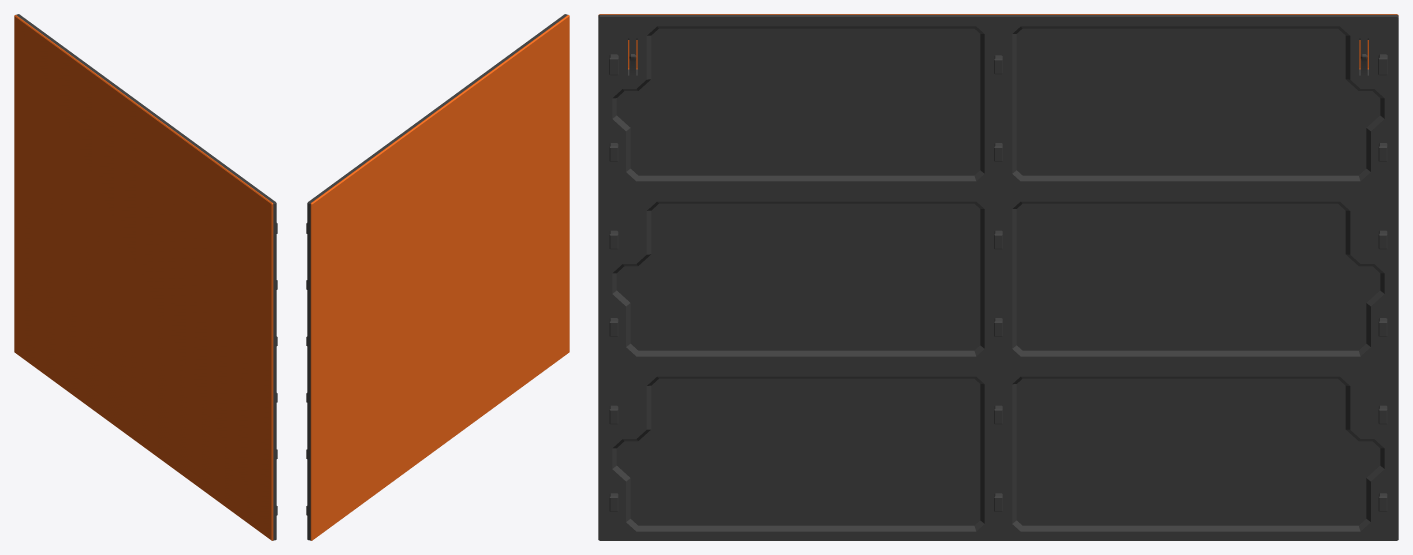
Rendered from SideCover_240-3H.lib.glb.
3 views of the same model, side by side, from view 1: azimuth 30°, elevation 25°; view 2: azimuth 150°, elevation 25°; view 3: azimuth 270°, elevation 25° (orthographic). The views are drawn at different scales.
Parts seen in each view (by area): view 1: SideCover_240-3H; view 2: SideCover_240-3H; view 3: SideCover_240-3H.
Boxes of the visible parts, bbox=[...] form: SideCover_240-3H: bbox=[14, 14, 277, 540]; SideCover_240-3H: bbox=[306, 14, 569, 540]; SideCover_240-3H: bbox=[598, 14, 1398, 540].
Bounding box in the file's own units: 5.04 × 168 × 232.
